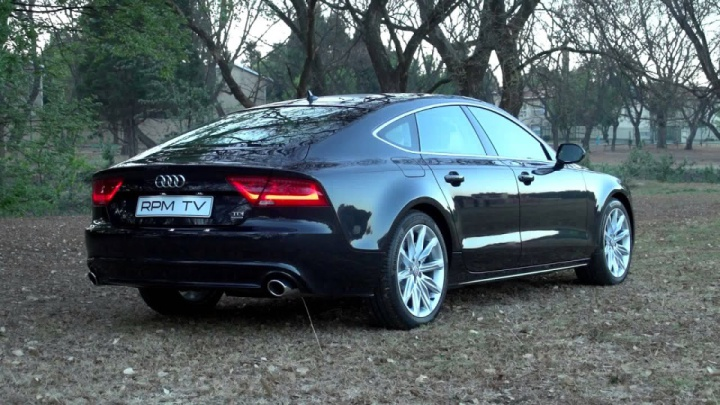audi: (150, 171, 196, 192)
